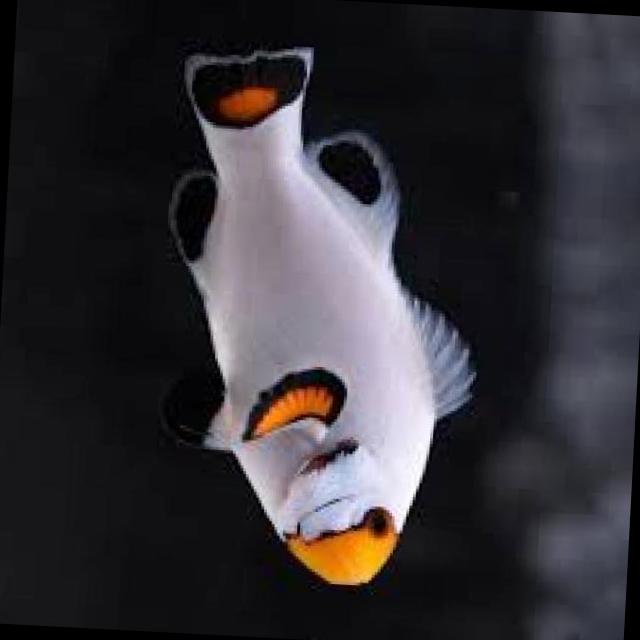ClownFish: (133, 45, 486, 598)
